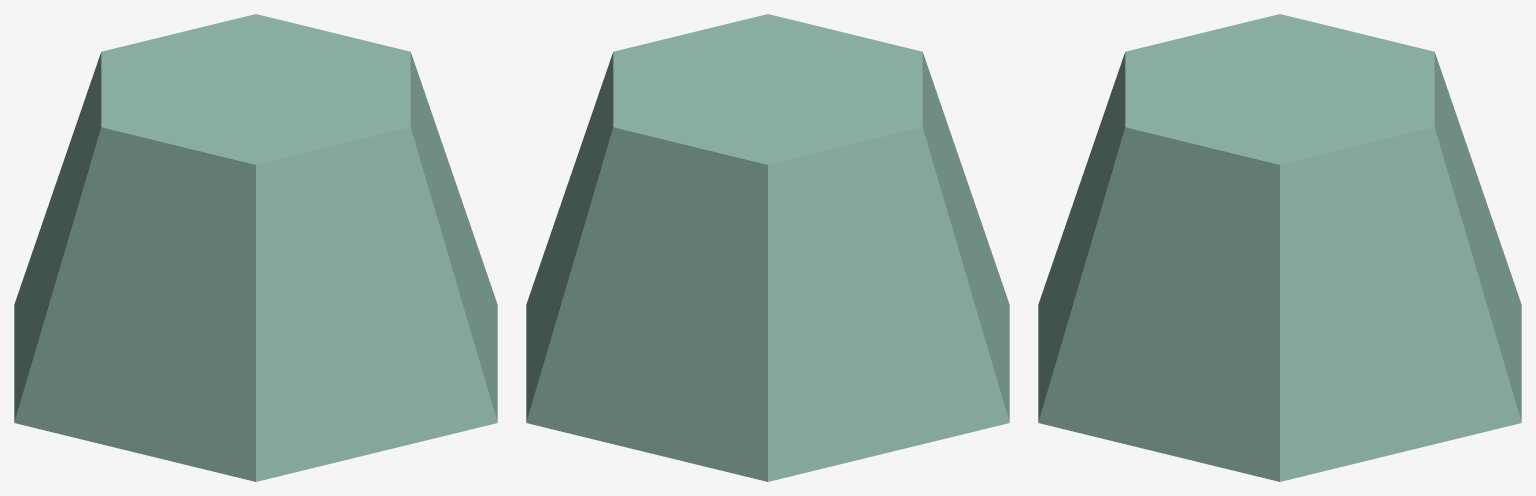
The model's file is naturePack_017.fbx.
The picture shows the model from 3 angles, left to right: view 1: azimuth 30°, elevation 25°; view 2: azimuth 150°, elevation 25°; view 3: azimuth 270°, elevation 25°; orthographic projection.
Visible parts, largest first — view 1: naturePack_017; view 2: naturePack_017; view 3: naturePack_017.
Part boxes in pixels (box(x1,y1,x2,y2)): naturePack_017: box(14, 14, 497, 481); naturePack_017: box(526, 14, 1009, 481); naturePack_017: box(1038, 14, 1521, 481).
Bounding box in the file's own units: 118 × 64 × 102.
